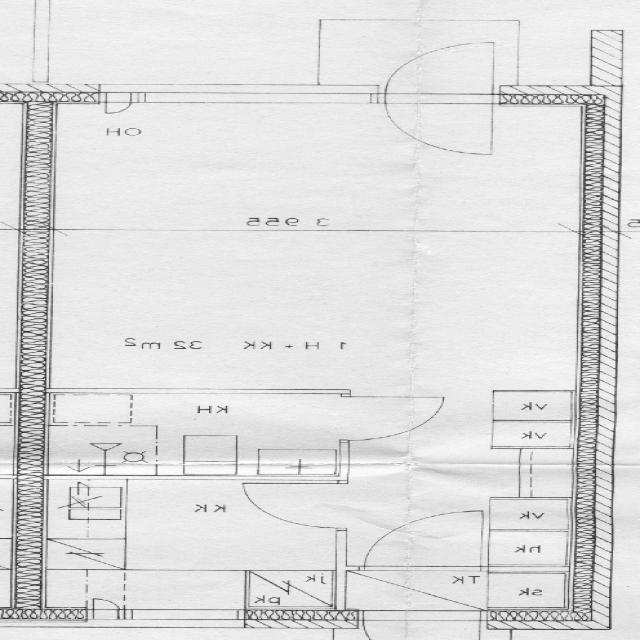door: (387, 85, 493, 157), (387, 36, 493, 106), (367, 512, 482, 572), (245, 483, 347, 528), (338, 397, 439, 440)
